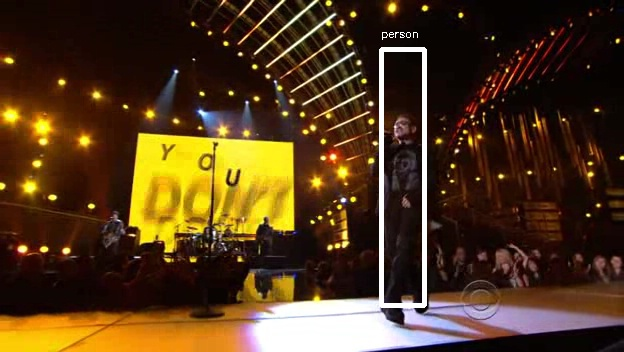person: (373, 114, 438, 220), (370, 114, 435, 220), (376, 114, 441, 220), (373, 111, 438, 217), (373, 117, 438, 223)
target_negative: (343, 172, 463, 297), (352, 161, 614, 192), (374, 225, 425, 316), (538, 231, 582, 246), (493, 216, 517, 237), (381, 350, 482, 351)
